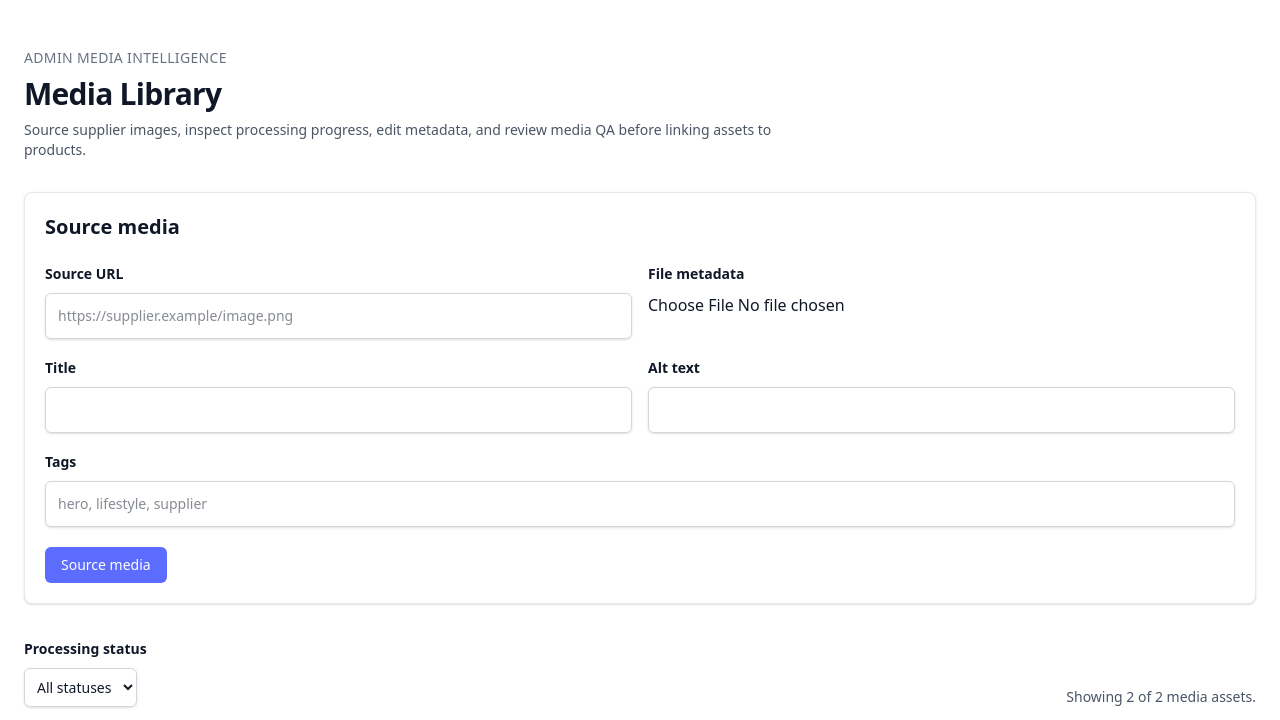
Test: MediaLibrary › shows an empty state when no assets match the current filter
Select "Processing" in the dropdown labelled "Processing status". click: (80, 688)
box: left=24, top=668, right=137, bottom=707
(page scrolled)
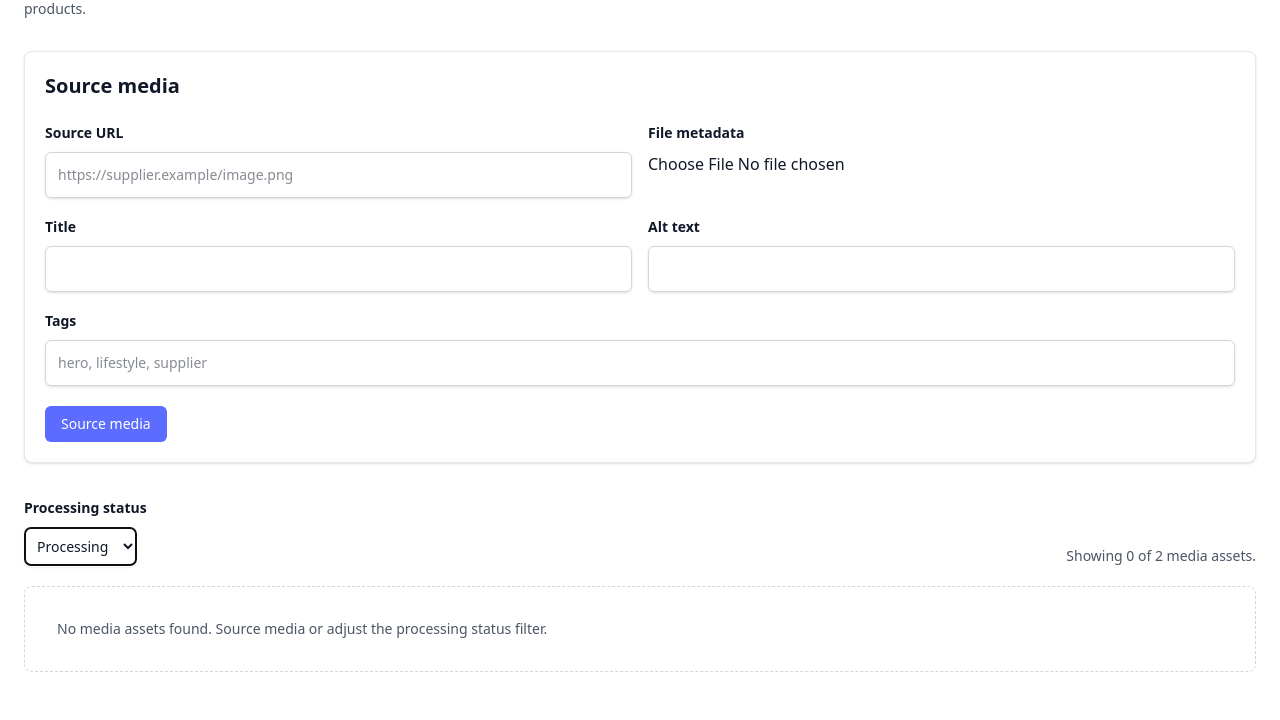
Check: the text "No media assets found" is shown, box left=57, top=619, right=547, bottom=638
